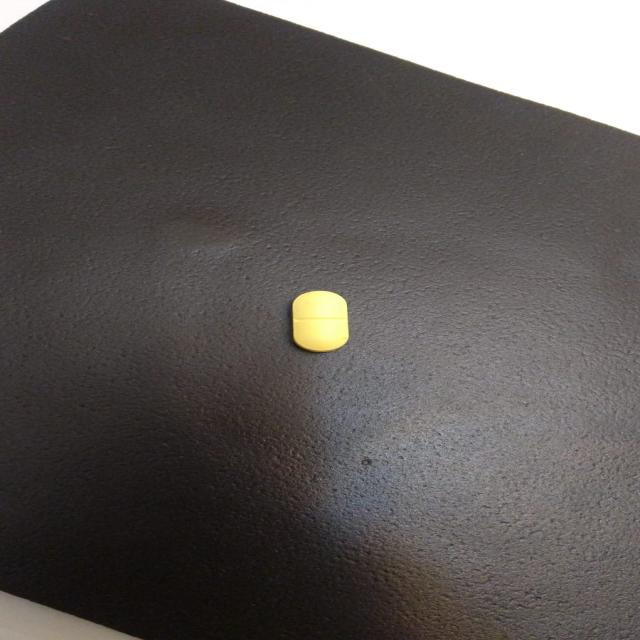pills: (278, 278, 365, 362)
